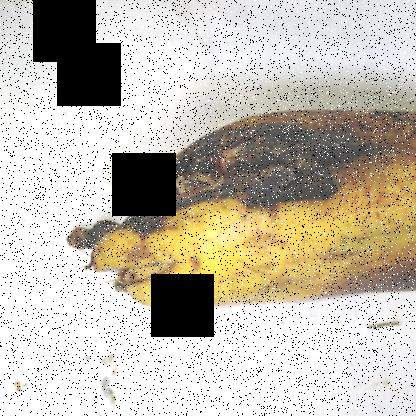ripe: (363, 61, 415, 317)
rotten: (103, 68, 380, 221), (318, 229, 415, 325)
